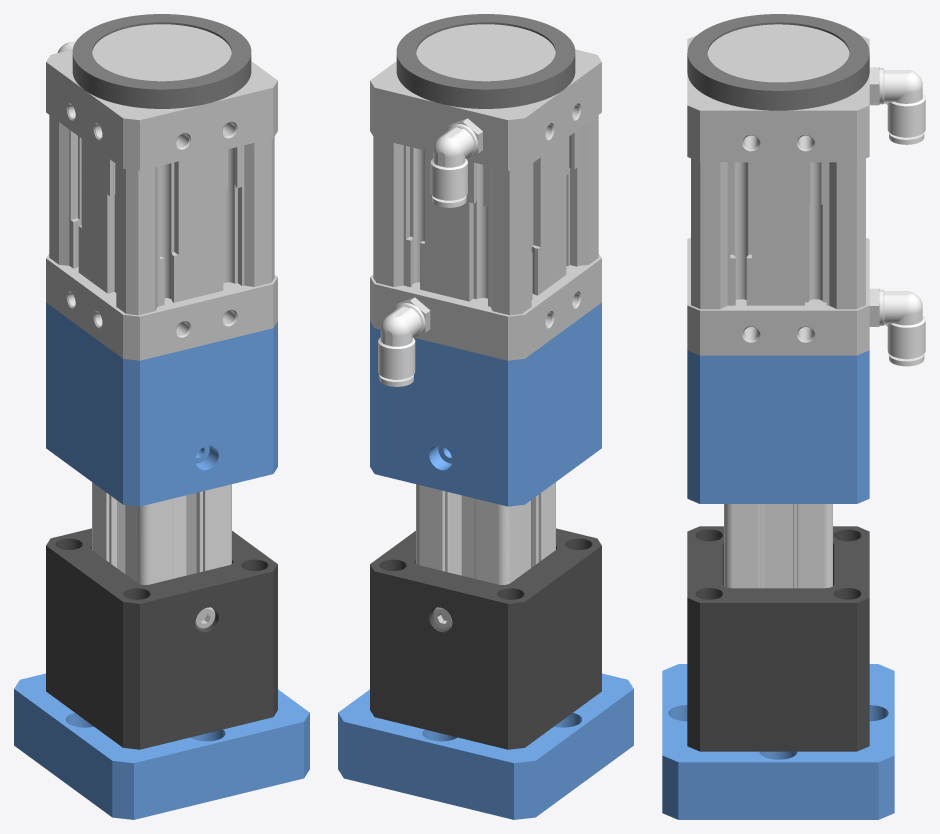
The model's file is EE_SMC_MHM.fbx.
3 views of the same model, side by side, from view 1: azimuth 30°, elevation 25°; view 2: azimuth 150°, elevation 25°; view 3: azimuth 270°, elevation 25° (orthographic).
Parts seen in each view (by area): view 1: Part_Bottom_IRB_120_MHM_32D1_X6400_001, Part_Top_IRB_120_MHM_32D1_X6400_001, Part_Middle_IRB_120_MHM_32D1_X6400_001; view 2: Part_Bottom_IRB_120_MHM_32D1_X6400_001, Part_Top_IRB_120_MHM_32D1_X6400_001, Part_Middle_IRB_120_MHM_32D1_X6400_001; view 3: Part_Bottom_IRB_120_MHM_32D1_X6400_001, Part_Top_IRB_120_MHM_32D1_X6400_001, Part_Middle_IRB_120_MHM_32D1_X6400_001.
Boxes of the visible parts, box(x1,y1,x2,y2) form: Part_Bottom_IRB_120_MHM_32D1_X6400_001: box(46, 14, 277, 506); Part_Top_IRB_120_MHM_32D1_X6400_001: box(14, 528, 309, 819); Part_Middle_IRB_120_MHM_32D1_X6400_001: box(92, 482, 231, 584); Part_Bottom_IRB_120_MHM_32D1_X6400_001: box(370, 14, 601, 506); Part_Top_IRB_120_MHM_32D1_X6400_001: box(338, 528, 633, 819); Part_Middle_IRB_120_MHM_32D1_X6400_001: box(416, 482, 555, 584); Part_Bottom_IRB_120_MHM_32D1_X6400_001: box(687, 14, 925, 503); Part_Top_IRB_120_MHM_32D1_X6400_001: box(662, 526, 894, 819); Part_Middle_IRB_120_MHM_32D1_X6400_001: box(724, 504, 832, 588).
Bounding box in the file's own units: 6.38 × 22.37 × 7.23.
